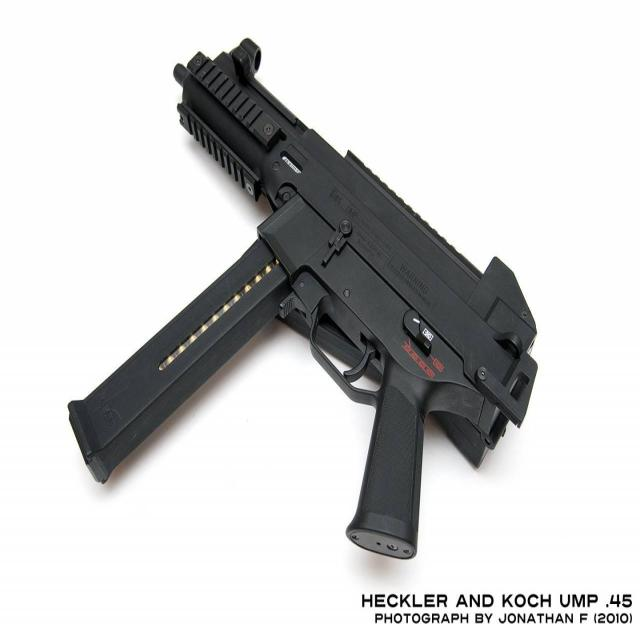SMG: (69, 40, 538, 560)
